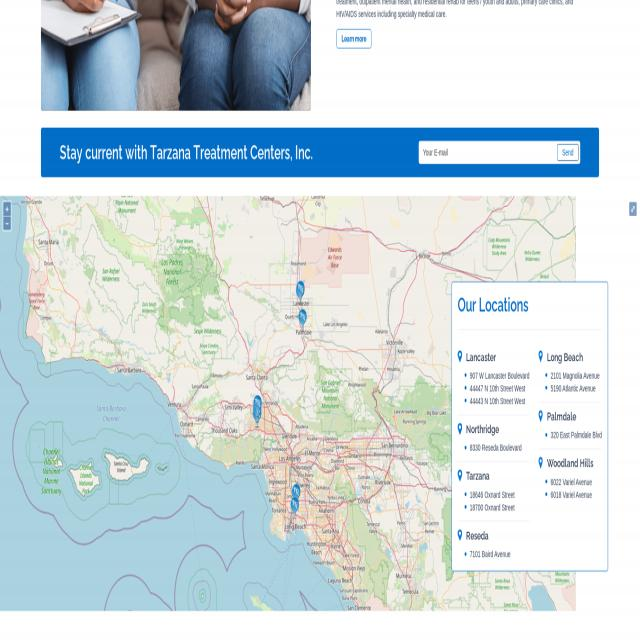button: (41, 0, 311, 141), (290, 507, 300, 532), (252, 416, 262, 440), (252, 411, 262, 435), (298, 319, 307, 344), (253, 405, 262, 430), (296, 291, 305, 316), (292, 494, 300, 519), (296, 293, 304, 317), (3, 213, 11, 227), (3, 228, 11, 242), (629, 213, 637, 227)
field: (557, 156, 579, 172)
